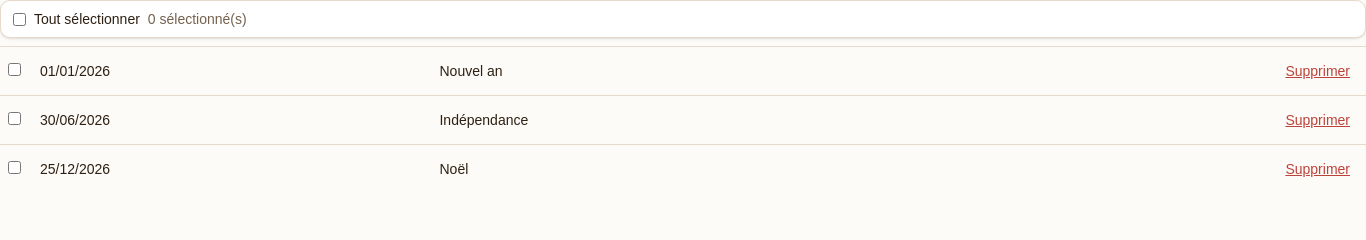
Test: JoursFeriesListe › une case par férié ; suppression groupée après confirmation
What coordinates should you click on to do the following:
click the checkbox named "Sélectionner le férié Nouvel an du 01/01/2026"
I would click on:
 (14, 70)
Its box is [8,63,21,76].
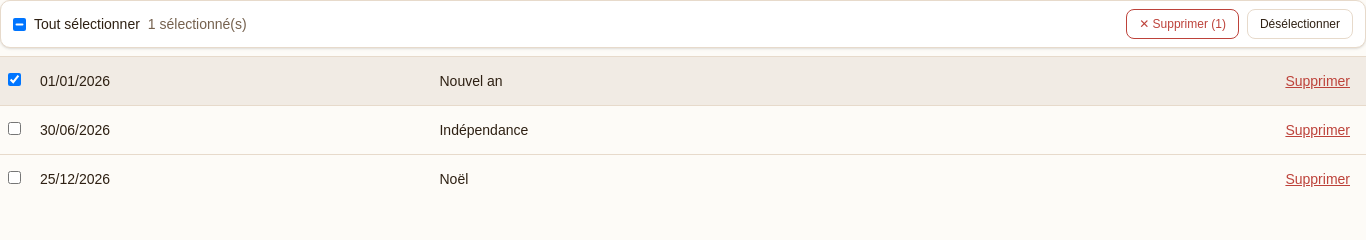
What coordinates should you click on to do the following:
click the checkbox named "Sélectionner le férié Noël du 25/12/2026"
I would click on:
 (14, 178)
Its box is [8,171,21,184].
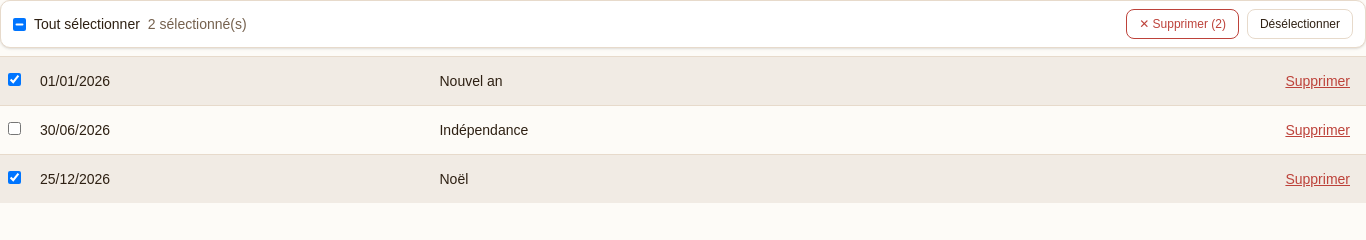
What coordinates should you click on to do the following:
click the button "✕ Supprimer (2)"
I would click on:
 (1183, 24)
Its box is [1126,9,1239,39].
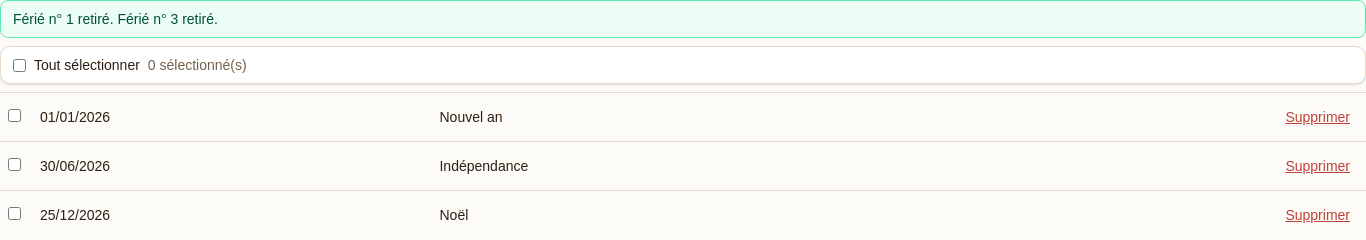
Expected: the message "Férié n° 1 retiré. Férié n° 3 retiré." is shown, [0,0,1365,38]
